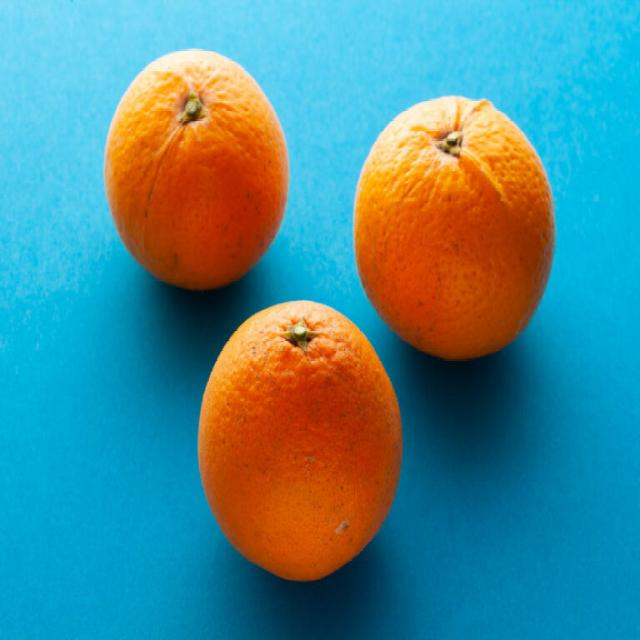Orange: (193, 300, 410, 590), (348, 96, 558, 365), (98, 47, 292, 296)
